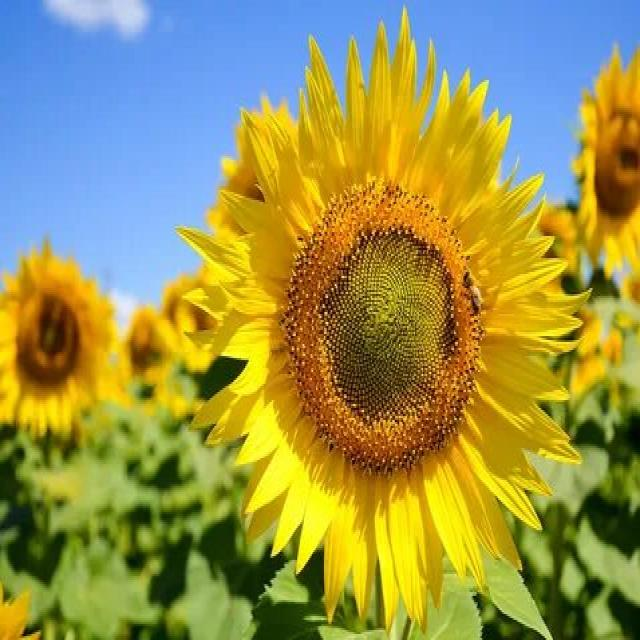sunflower: (167, 4, 594, 620), (4, 236, 112, 446), (565, 32, 640, 290)
